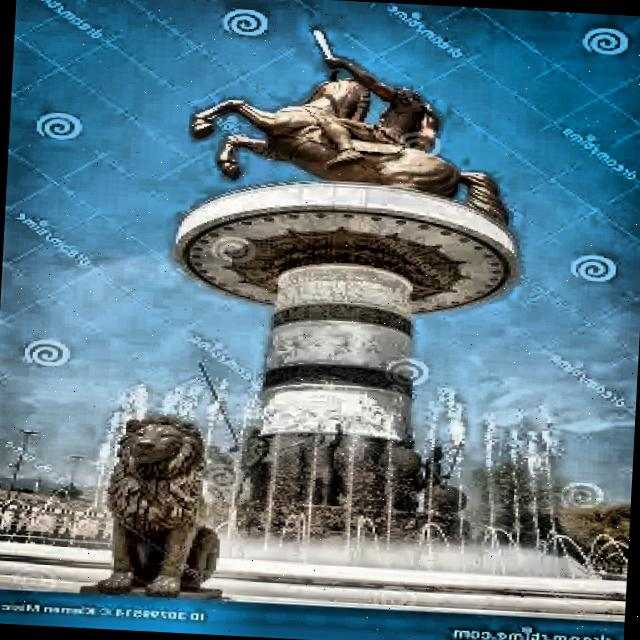alexander the great monument: (174, 20, 618, 562)
